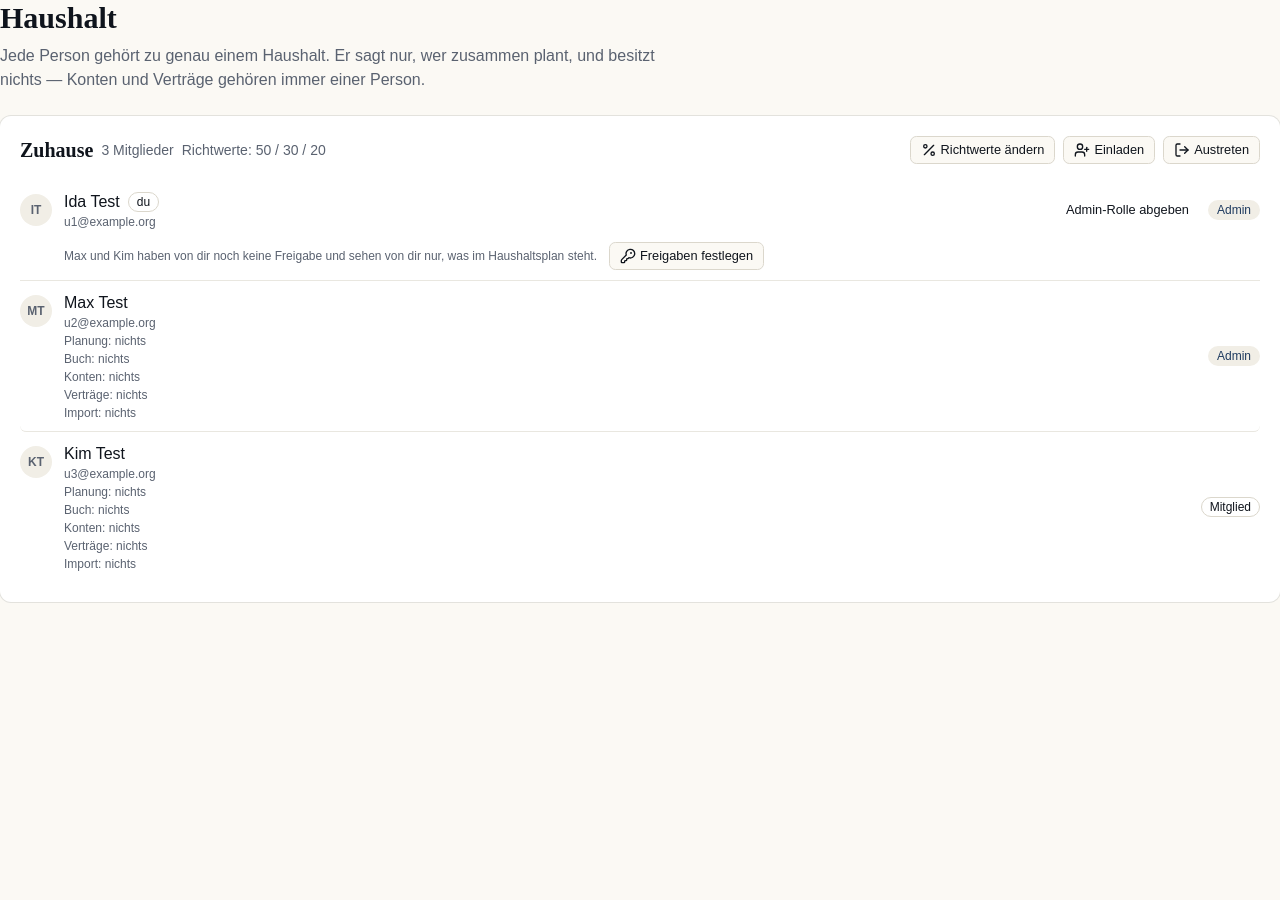
Scenario: stepping down as admin › an admin beside another admin gives the role up after one question
Click the button "Admin-Rolle abgeben" at (1127, 210), box [1055,196,1200,224]
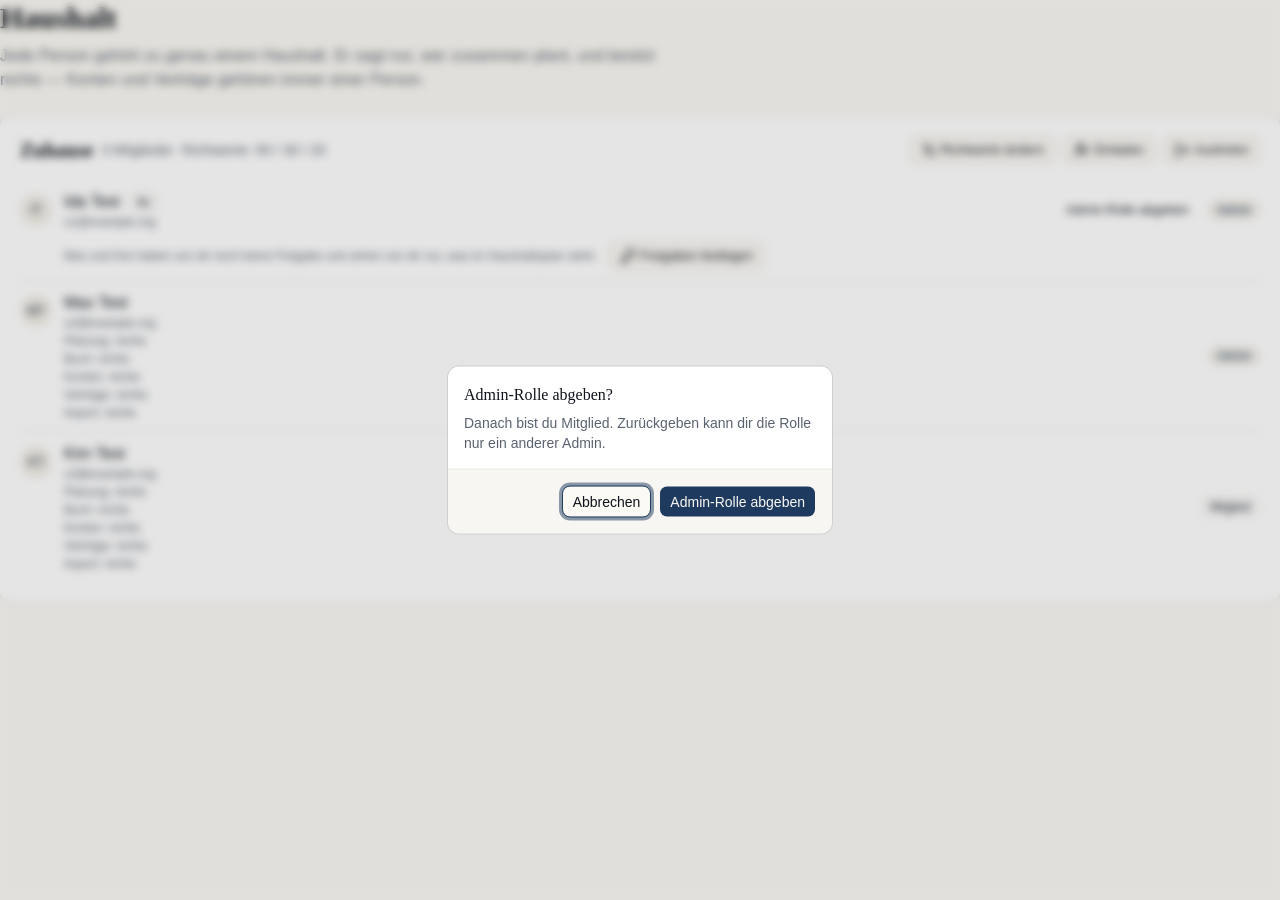
Click the button "Admin-Rolle abgeben" at (738, 502), box [659,486,816,518]
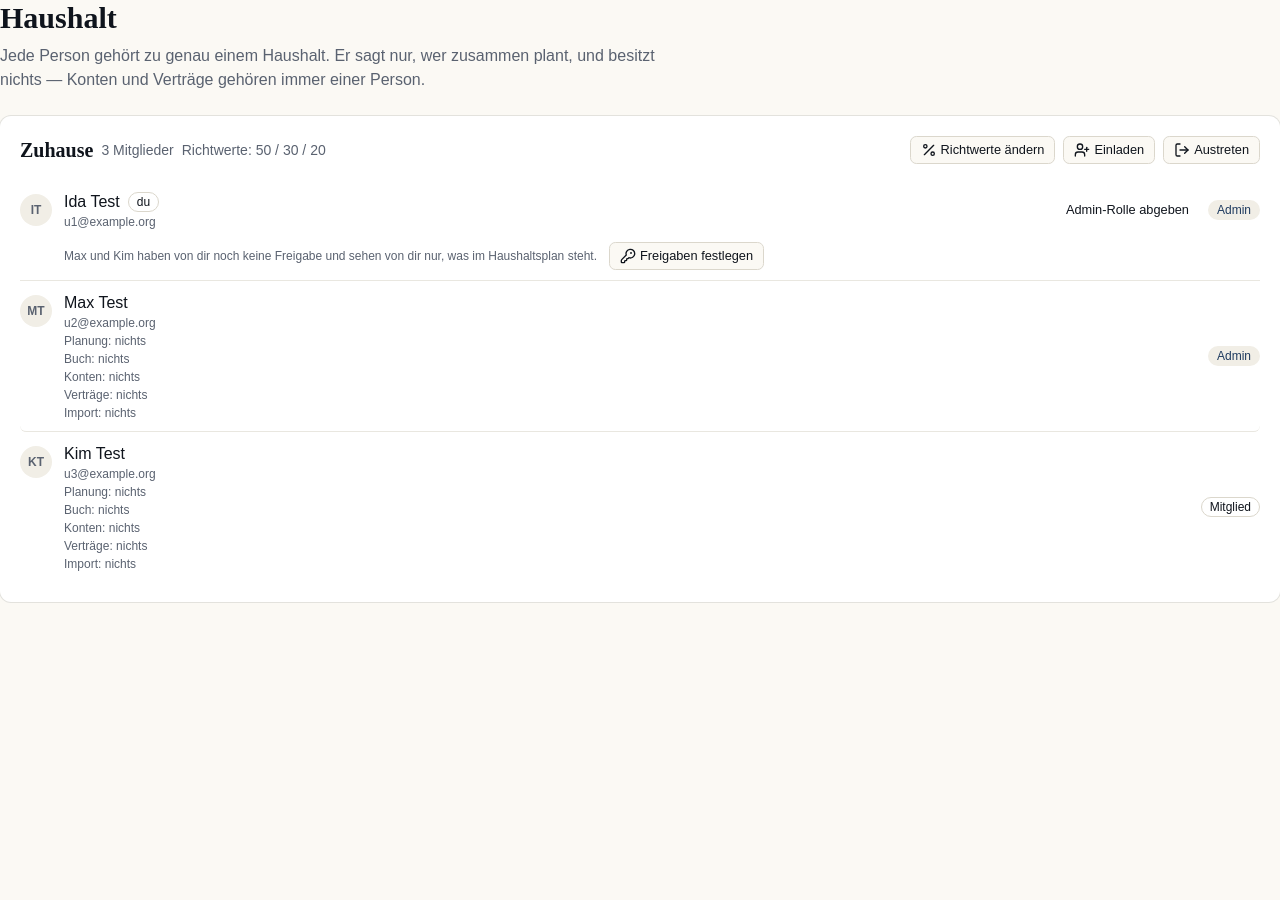
Now the dialog is gone
